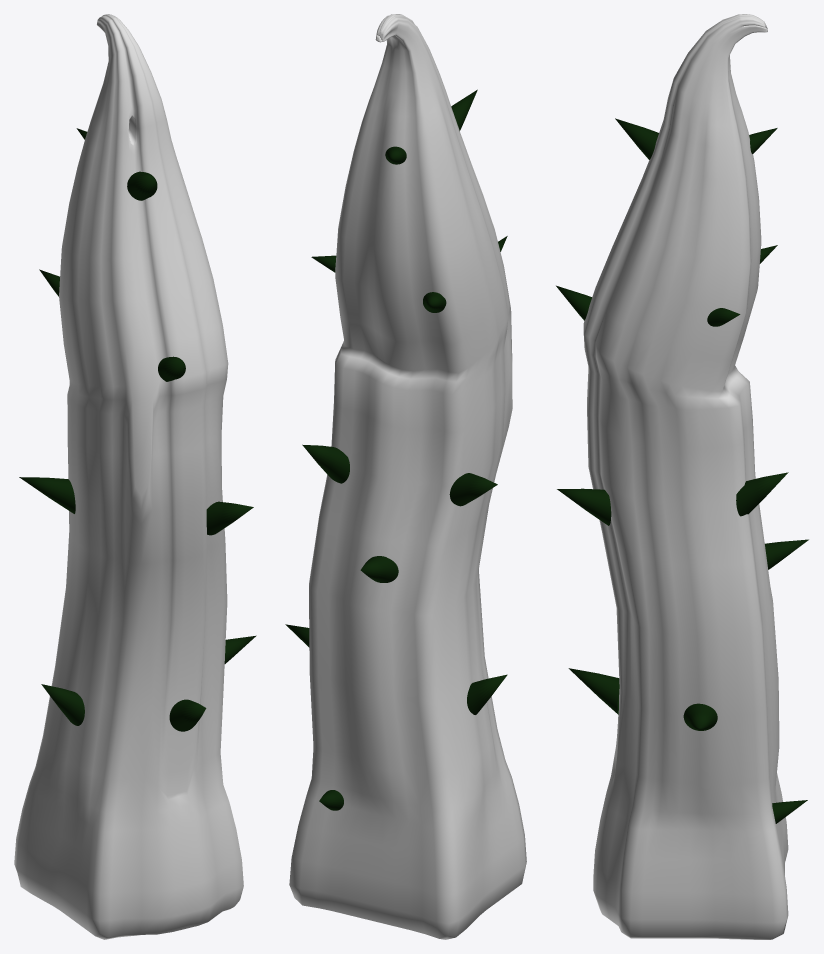
Rendered from vine.fbx.
The picture shows the model from 3 angles, left to right: view 1: azimuth 30°, elevation 25°; view 2: azimuth 150°, elevation 25°; view 3: azimuth 270°, elevation 25°; orthographic projection. The views are drawn at different scales.
Parts seen in each view (by area): view 1: pCube1, pCone3, pCone9, pCone1, pCone8, pCone12, pCone10; view 2: pCube1, pCone5, pCone3, pCone1, pCone4; view 3: pCube1, pCone5, pCone9, pCone8, pCone2, pCone12, pCone4.
Part boxes in pixels (left/top/right/bottom): pCube1: left=14, top=14, right=243, bottom=939; pCone3: left=19, top=477, right=75, bottom=513; pCone9: left=206, top=501, right=253, bottom=535; pCone1: left=41, top=684, right=84, bottom=725; pCone8: left=169, top=699, right=206, bottom=731; pCone12: left=127, top=171, right=157, bottom=200; pCone10: left=158, top=356, right=185, bottom=381; pCube1: left=289, top=14, right=526, bottom=939; pCone5: left=302, top=444, right=349, bottom=483; pCone3: left=449, top=473, right=497, bottom=506; pCone1: left=467, top=674, right=507, bottom=714; pCone4: left=360, top=556, right=398, bottom=582; pCube1: left=583, top=14, right=788, bottom=939; pCone5: left=736, top=472, right=788, bottom=516; pCone9: left=557, top=488, right=611, bottom=525; pCone8: left=568, top=668, right=619, bottom=714; pCone2: left=683, top=703, right=717, bottom=730; pCone12: left=615, top=118, right=658, bottom=159; pCone4: left=765, top=539, right=808, bottom=569.
Size of the model in its own units: 2.66 by 9.93 by 2.56.
